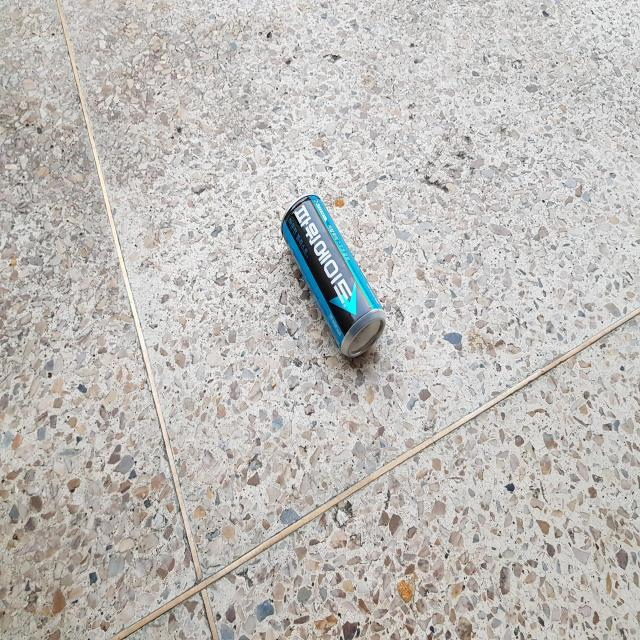can: (282, 194, 386, 358)
